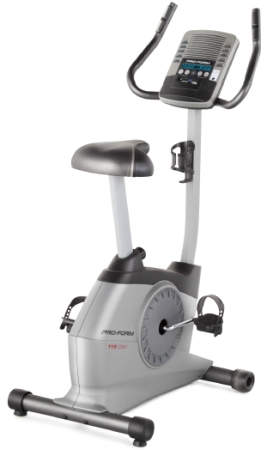gym_bike: (18, 14, 258, 443)
